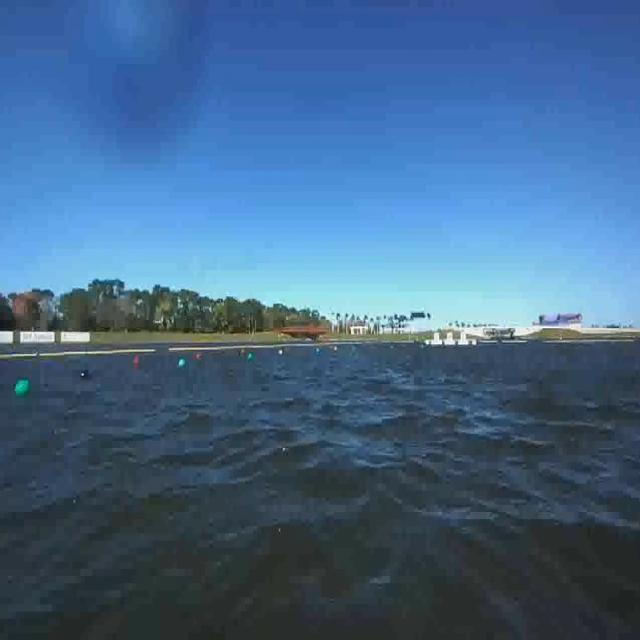green-buoy: (15, 377, 30, 394), (178, 358, 186, 367)
red-buoy: (136, 354, 140, 370)
